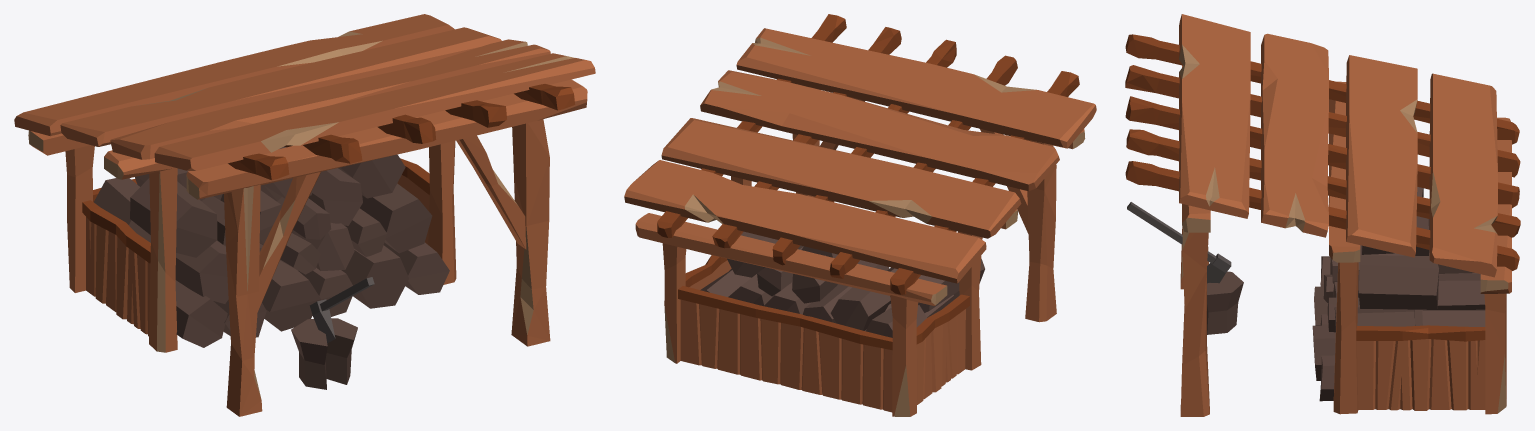
Rendered from Woodshed.fbx.
3 renders of one model, left to right at view 1: azimuth 30°, elevation 25°; view 2: azimuth 150°, elevation 25°; view 3: azimuth 270°, elevation 25°, orthographic. The views are drawn at different scales.
Visible parts, largest first — view 1: Woodshed.001, Stump.001, Axe.001; view 2: Woodshed.001; view 3: Woodshed.001, Stump.001, Axe.001.
Part boxes in pixels (<box>): Woodshed.001: <box>14,14,595,416</box>; Stump.001: <box>291,318,357,389</box>; Axe.001: <box>309,277,374,343</box>; Woodshed.001: <box>624,14,1096,416</box>; Woodshed.001: <box>1125,14,1520,416</box>; Stump.001: <box>1207,271,1243,334</box>; Axe.001: <box>1127,202,1231,283</box>.
Bounding box in the file's own units: 123 × 79.49 × 114.
